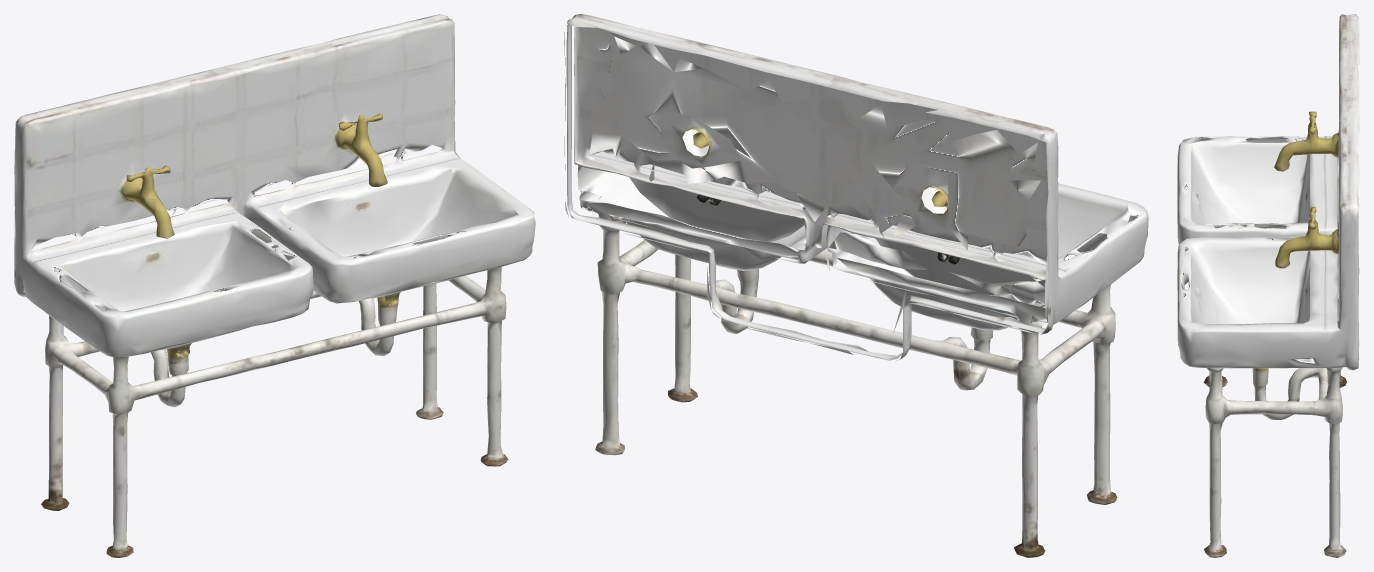
File: lavatorio_doble.glb
3 renders of one model, left to right at view 1: azimuth 30°, elevation 25°; view 2: azimuth 150°, elevation 25°; view 3: azimuth 270°, elevation 25°, orthographic. The views are drawn at different scales.
Parts seen in each view (by area): view 1: geometry_0; view 2: geometry_0; view 3: geometry_0.
Boxes of the visible parts, x1,y1,x2,y2 form: geometry_0: [14, 14, 535, 557]; geometry_0: [564, 14, 1148, 557]; geometry_0: [1177, 14, 1359, 557].
Bounding box in the file's own units: 1.4 × 1.2 × 0.55.
Materials: 1 (1 with a texture image).
